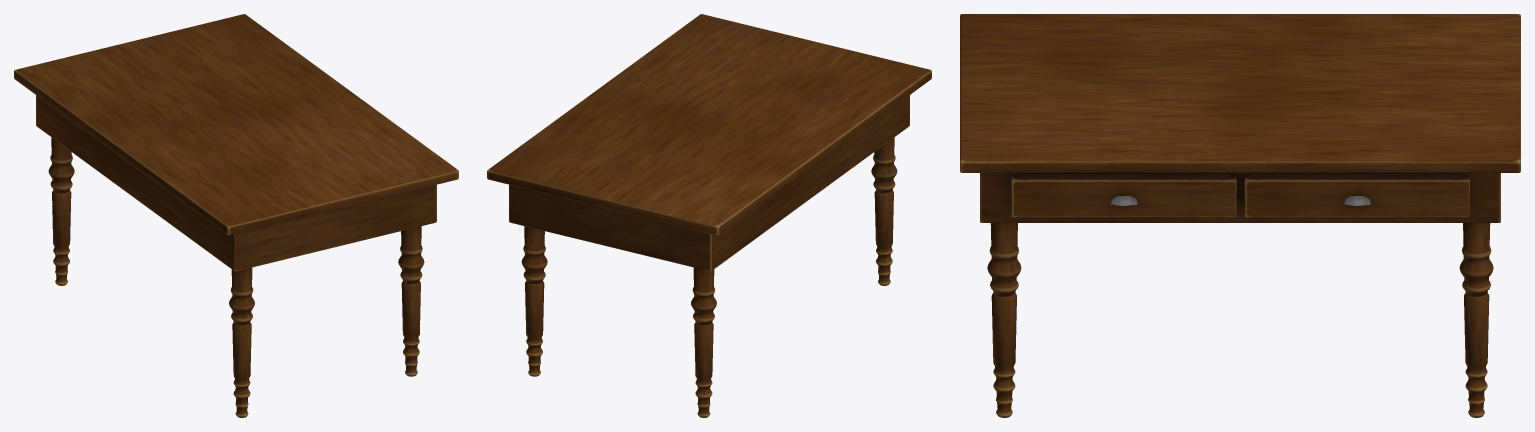
File: old_wooden_desk.glb
3 views of the same model, side by side, from view 1: azimuth 30°, elevation 25°; view 2: azimuth 150°, elevation 25°; view 3: azimuth 270°, elevation 25° (orthographic). The views are drawn at different scales.
Visible parts, largest first — view 1: Cube; view 2: Cube; view 3: Cube.
Part boxes in pixels (x1,y1,x2,y2): Cube: (14, 14, 458, 417); Cube: (487, 14, 931, 417); Cube: (960, 14, 1520, 417).
Bounding box in the file's own units: 1.01 × 0.8635 × 1.6.
1 material, 1 textured.
